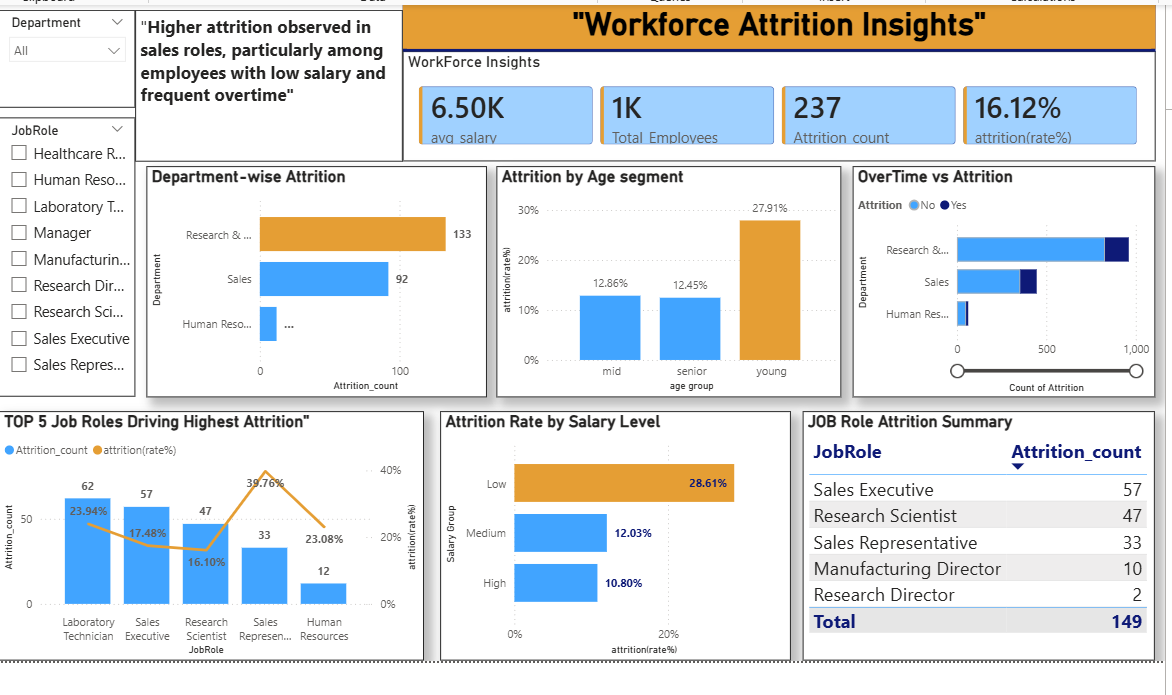

The dashboard page shown, as its layout file describes it:
{"tool":"powerbi","page":{"name":"Page 1","canvas":[1280,720],"ordinal":0},"visuals":[{"type":"cardVisual","title":"WorkForce Insights","fields":{"Data":["Employees.avg_salary","Employees.Total_Employees","Employees.Attrition_count","Employees.attrition(rate%)"]},"box":[443.3,51.3,826.7,121.2],"z":0},{"type":"barChart","title":" Department-wise Attrition","fields":{"Category":["Employees.Department"],"Y":["Employees.Attrition_count"]},"box":[161.9,177,373.2,253.9],"z":1000},{"type":"lineClusteredColumnComboChart","title":"Attrition by Age segment","fields":{"Category":["Employees.age group"],"Y":["Employees.attrition(rate%)"]},"box":[546.1,177,378.7,253.9],"z":2000},{"type":"clusteredBarChart","title":"Attrition Rate by Salary Level","fields":{"Category":["Employees.Salary Group"],"Y":["Employees.attrition(rate%)"]},"box":[484.6,446.1,384.9,273.7],"z":3000},{"type":"barChart","title":" OverTime vs Attrition","fields":{"Category":["Employees.Department"],"Series":["Employees.Attrition"],"Y":["CountNonNull(Employees.Attrition)"]},"box":[937.2,177,332.1,253.9],"z":4000},{"type":"slicer","fields":{"Values":["Employees.Department"]},"box":[0,5.7,149.7,106.9],"z":5000},{"type":"slicer","fields":{"Values":["Employees.JobRole"]},"box":[0,124,149.7,306.5],"z":6000},{"type":"tableEx","title":"JOB Role Attrition Summary","fields":{"Values":["Employees.JobRole","Employees.Attrition_count"]},"box":[882.3,446.1,386.3,273.7],"z":7000},{"type":"textbox","title":"\"Workforce Attrition Insights\"","box":[443.3,0,826.7,51.3],"z":8000},{"type":"textbox","box":[149.7,5.7,293.6,166.8],"z":9000},{"type":"lineStackedColumnComboChart","title":"TOP 5 Job Roles Driving Highest Attrition\"","fields":{"Category":["Employees.JobRole"],"Y":["Employees.Attrition_count"],"Y2":["Employees.attrition(rate%)"]},"box":[0,446.1,466.1,273.7],"z":10000}]}

Visuals, with their boxes in screenshot pixels (x1, y1, x2, y2):
"WorkForce Insights" cardVisual: detection(403, 52, 1150, 162)
" Department-wise Attrition" barChart: detection(149, 166, 486, 395)
"Attrition by Age segment" lineClusteredColumnComboChart: detection(496, 166, 838, 395)
"Attrition Rate by Salary Level" clusteredBarChart: detection(441, 409, 788, 656)
" OverTime vs Attrition" barChart: detection(849, 166, 1149, 395)
slicer - Employees.Department: detection(3, 11, 138, 108)
slicer - Employees.JobRole: detection(3, 118, 138, 395)
"JOB Role Attrition Summary" tableEx: detection(800, 409, 1149, 656)
""Workforce Attrition Insights"" textbox: detection(403, 6, 1150, 52)
textbox: detection(138, 11, 403, 162)
"TOP 5 Job Roles Driving Highest Attrition"" lineStackedColumnComboChart: detection(3, 409, 424, 656)
